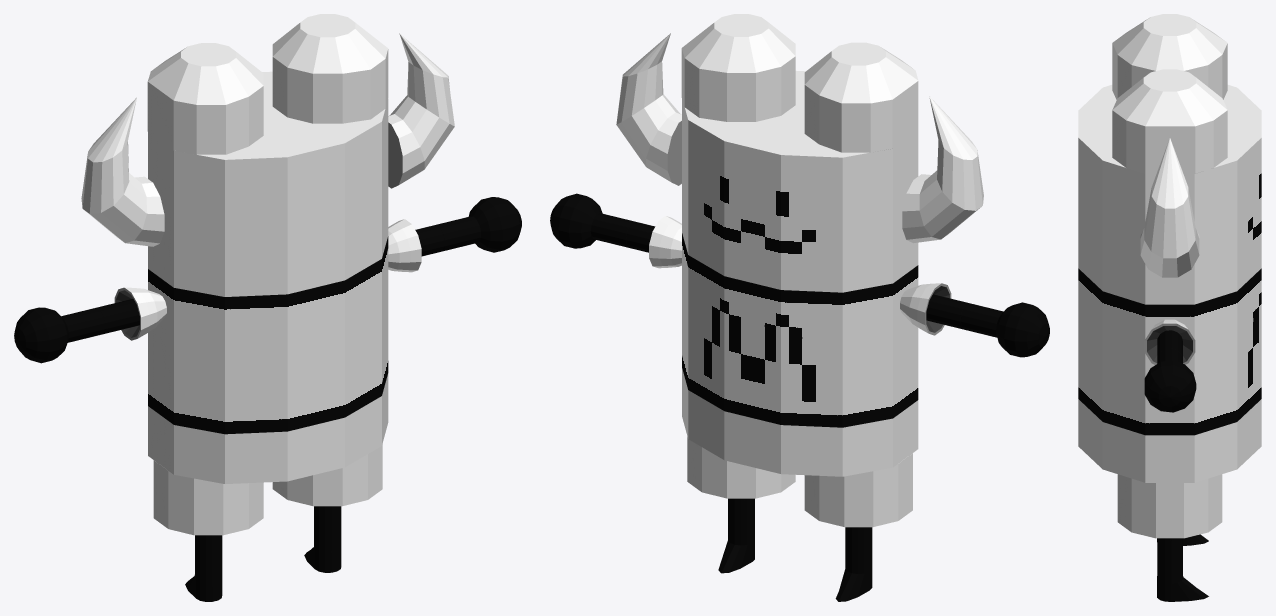
Rendered from thew FINAL blender mors.gltf.
3 views of the same model, side by side, from view 1: azimuth 30°, elevation 25°; view 2: azimuth 150°, elevation 25°; view 3: azimuth 270°, elevation 25° (orthographic). The views are drawn at different scales.
Visible parts, largest first — view 1: body, Head, l (×2), r (×2), Pantleg (×2), lower arm (×2), upper arm (×2), lowerleg (×2); view 2: body, Head, l (×2), r (×2), Pantleg (×2), lower arm (×2), upper arm (×2), lowerleg (×2); view 3: body, Head, r (×2), l, Pantleg, lower arm, lowerleg, upper arm.
Part boxes in pixels (bbox=[...]): body: bbox=[148, 236, 388, 483]; Head: bbox=[148, 71, 388, 296]; l (×2): bbox=[81, 43, 263, 246]; r (×2): bbox=[272, 14, 454, 188]; Pantleg (×2): bbox=[153, 444, 382, 536]; lower arm (×2): bbox=[14, 197, 521, 363]; upper arm (×2): bbox=[95, 219, 444, 340]; lowerleg (×2): bbox=[185, 506, 341, 601]; body: bbox=[682, 233, 918, 476]; Head: bbox=[682, 70, 918, 292]; l (×2): bbox=[804, 42, 983, 243]; r (×2): bbox=[616, 14, 795, 185]; Pantleg (×2): bbox=[687, 437, 912, 528]; lower arm (×2): bbox=[550, 193, 1049, 357]; upper arm (×2): bbox=[626, 216, 969, 335]; lowerleg (×2): bbox=[718, 498, 872, 601]; body: bbox=[1078, 268, 1261, 482]; Head: bbox=[1078, 85, 1261, 304]; r (×2): bbox=[1112, 69, 1227, 277]; l: bbox=[1112, 14, 1227, 99]; Pantleg: bbox=[1117, 474, 1222, 540]; lower arm: bbox=[1144, 348, 1196, 412]; lowerleg: bbox=[1157, 538, 1208, 601]; upper arm: bbox=[1144, 319, 1195, 364].
Size of the model in its own units: 2.62 by 2.72 by 0.875.
11 materials, 11 textured.
